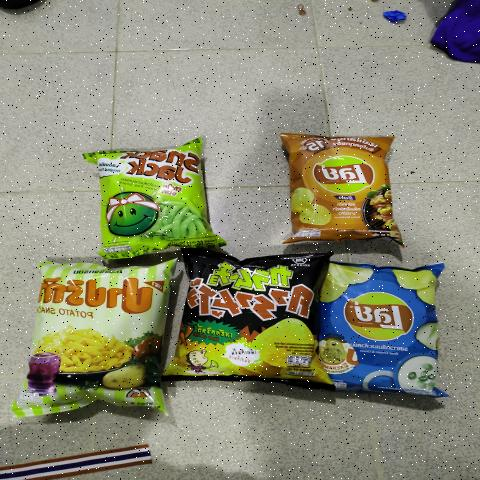karamujo: (182, 257, 310, 378)
lay_blue: (326, 274, 427, 380)
paprika: (23, 272, 164, 420)
snack_jack: (100, 149, 200, 250)
